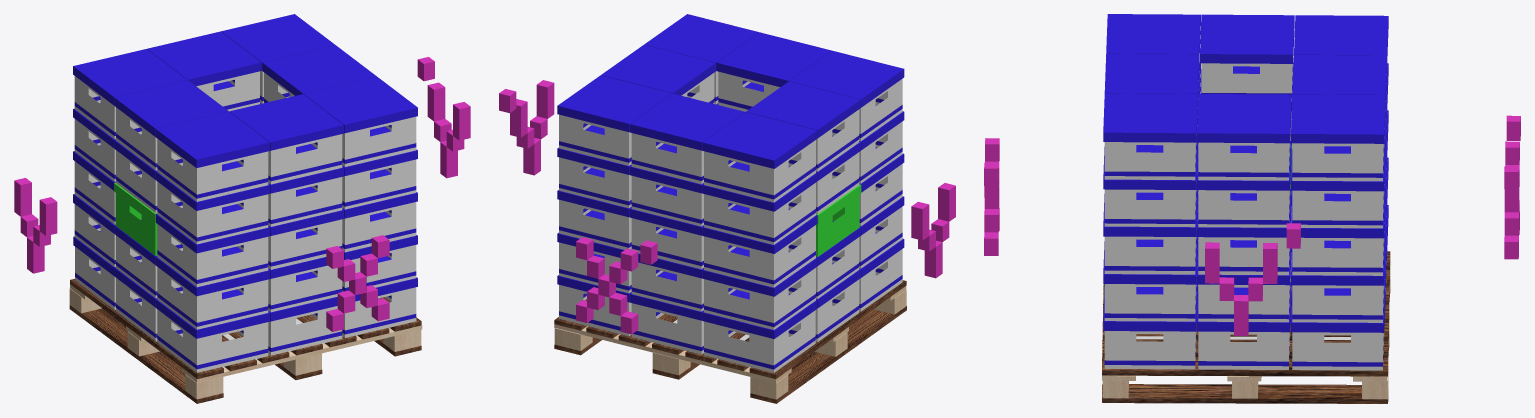
Rendered from caja123.gltf.
The picture shows the model from 3 angles, left to right: view 1: azimuth 30°, elevation 25°; view 2: azimuth 150°, elevation 25°; view 3: azimuth 270°, elevation 25°; orthographic projection. The views are drawn at different scales.
Visible parts, largest first — view 1: Cube.031_1, Cube.026_1, Cube.033_1, Cube.032_1, Cube.029_1, Cube.030_1, Cube.027_1, Cube.004_0, Cube.031_0, Cube.020_0, Cube.012_0, Cube.039_0 (+53 smaller); view 2: Cube.029_1, Cube.028_1, Cube.032_1, Cube.033_1, Cube.030_1, Cube.031_1, Cube.027_1, Cube.007_0, Cube.029_0, Cube.022_0, Cube.014_0, Cube.037_0 (+53 smaller); view 3: Cube.026_1, Cube.028_1, Cube.027_1, Cube.030_1, Cube055, Cube.029_1, Cube.033_1, Cube.031_1, Cube.032_1, Cube.003_0, Cube.001_0, Cube.002_0 (+33 smaller).
Part boxes in pixels (x1=…): Cube.031_1: x1=155, y1=111, x2=269, y2=198; Cube.026_1: x1=303, y1=76, x2=417, y2=163; Cube.033_1: x1=229, y1=94, x2=343, y2=181; Cube.032_1: x1=147, y1=31, x2=261, y2=109; Cube.029_1: x1=73, y1=49, x2=187, y2=135; Cube.030_1: x1=114, y1=80, x2=228, y2=167; Cube.027_1: x1=262, y1=45, x2=376, y2=102; Cube.004_0: x1=157, y1=309, x2=268, y2=372; Cube.031_0: x1=157, y1=139, x2=268, y2=201; Cube.020_0: x1=157, y1=224, x2=268, y2=287; Cube.012_0: x1=157, y1=267, x2=268, y2=329; Cube.039_0: x1=157, y1=181, x2=268, y2=244; Cube.029_1: x1=702, y1=112, x2=817, y2=199; Cube.028_1: x1=557, y1=75, x2=672, y2=162; Cube.032_1: x1=630, y1=93, x2=744, y2=180; Cube.033_1: x1=716, y1=32, x2=831, y2=109; Cube.030_1: x1=746, y1=81, x2=860, y2=168; Cube.031_1: x1=789, y1=50, x2=904, y2=137; Cube.027_1: x1=601, y1=44, x2=715, y2=103; Cube.007_0: x1=704, y1=310, x2=815, y2=372; Cube.029_0: x1=704, y1=140, x2=815, y2=202; Cube.022_0: x1=704, y1=225, x2=815, y2=287; Cube.014_0: x1=704, y1=268, x2=815, y2=329; Cube.037_0: x1=704, y1=183, x2=815, y2=244; Cube.026_1: x1=1103, y1=93, x2=1197, y2=176; Cube.028_1: x1=1291, y1=94, x2=1385, y2=177; Cube.027_1: x1=1197, y1=94, x2=1291, y2=177; Cube.030_1: x1=1200, y1=14, x2=1294, y2=97; Cube055: x1=1102, y1=384, x2=1388, y2=403; Cube.029_1: x1=1294, y1=15, x2=1388, y2=55; Cube.033_1: x1=1104, y1=53, x2=1199, y2=97; Cube.031_1: x1=1106, y1=14, x2=1200, y2=61; Cube.032_1: x1=1292, y1=55, x2=1387, y2=100; Cube.003_0: x1=1292, y1=332, x2=1384, y2=370; Cube.001_0: x1=1104, y1=331, x2=1196, y2=369; Cube.002_0: x1=1198, y1=331, x2=1290, y2=369.
Bounding box in the file's own units: 4.23 × 2.33 × 4.23.
Materials: 82 (2 with a texture image).
